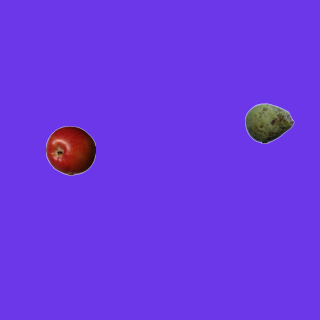Apple Braeburn: (45, 125, 95, 175)
Pear Stone: (244, 98, 294, 148)
